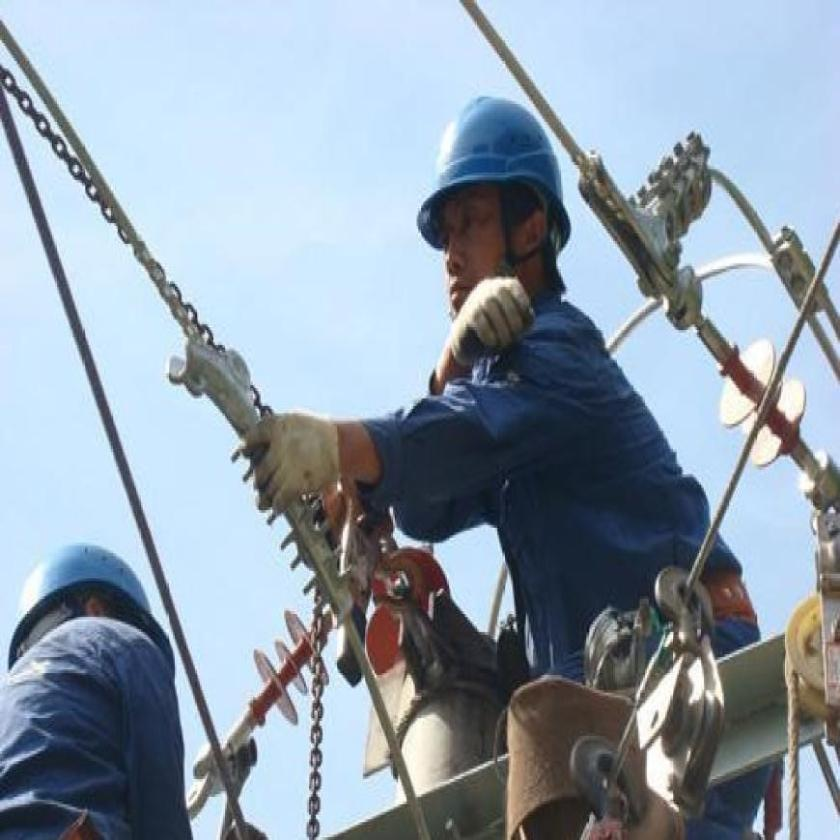Con_casco: (413, 86, 579, 334), (6, 536, 182, 708)
